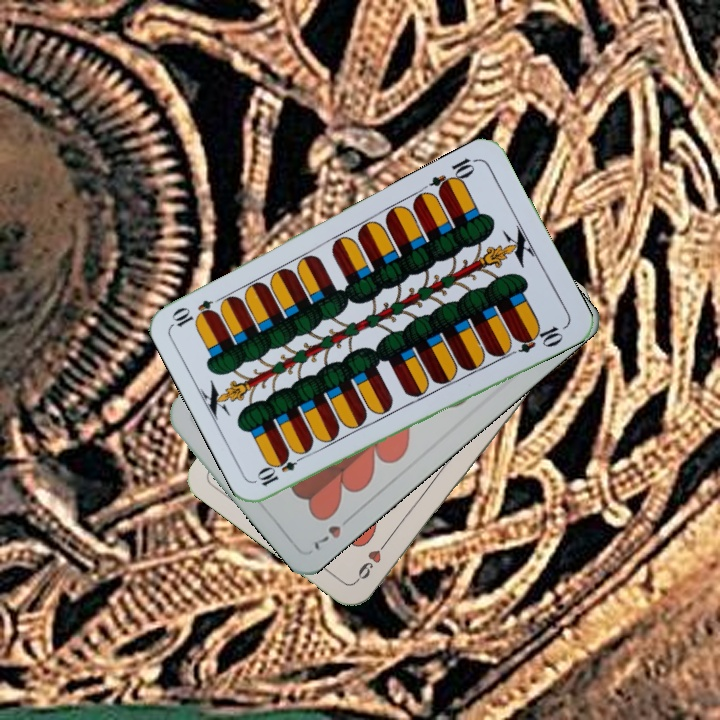E10: (426, 153, 481, 197), (253, 449, 309, 489)
H7: (307, 510, 357, 554)
H9: (352, 534, 393, 585)
